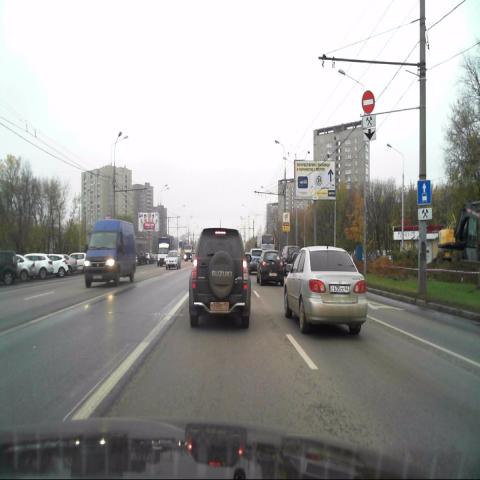3_1: (361, 89, 375, 115)
5_14: (418, 181, 430, 205)
